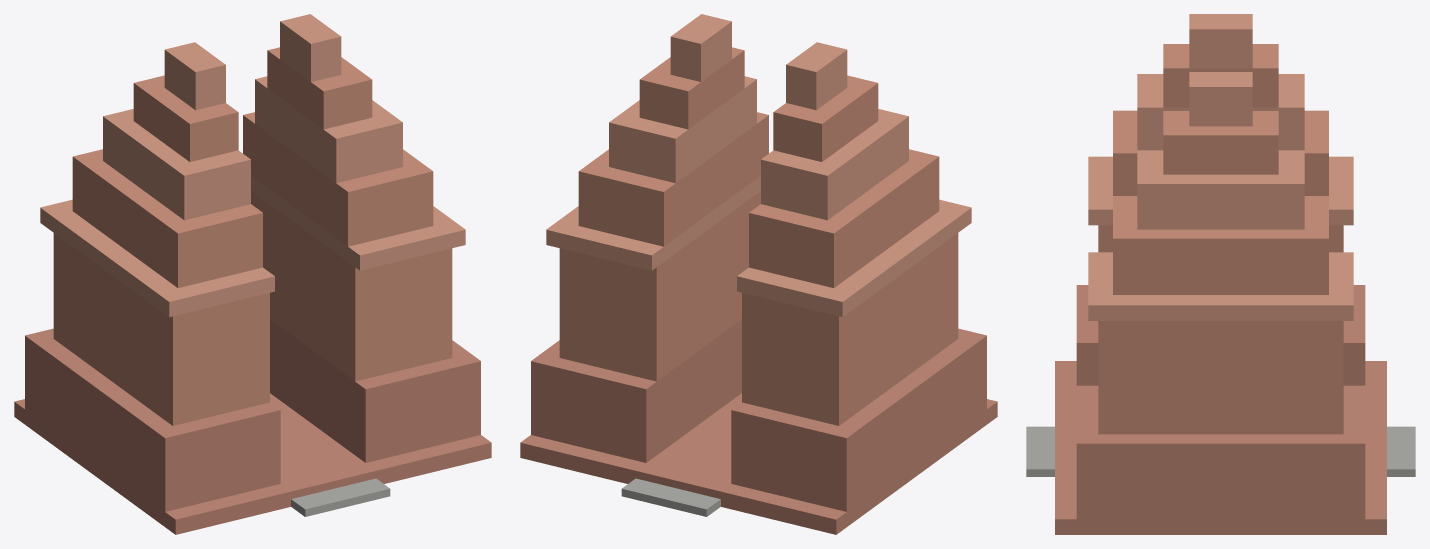
The model's file is gapura_bentar.glb.
3 views of the same model, side by side, from view 1: azimuth 30°, elevation 25°; view 2: azimuth 150°, elevation 25°; view 3: azimuth 270°, elevation 25° (orthographic). The views are drawn at different scales.
Visible parts, largest first — view 1: badan_barat, kaki_barat, badan_timur, kaki_timur, batur, atap1_barat, atap1_timur, atap2_barat, atap2_timur, pelipit_barat, atap3_barat, atap3_timur (+4 smaller); view 2: badan_barat, kaki_barat, badan_timur, kaki_timur, batur, atap1_barat, atap1_timur, atap2_barat, atap2_timur, pelipit_barat, atap3_barat, atap3_timur (+4 smaller); view 3: badan_timur, kaki_timur, atap1_timur, batur, atap2_timur, pelipit_timur, atap3_timur, atap2_barat, atap1_barat, kaki_barat, atap3_barat, puncak_timur (+5 smaller).
Boxes of the visible parts, x1,y1,x2,y2 form: badan_barat: [53, 233, 269, 425]; kaki_barat: [25, 328, 280, 511]; badan_timur: [251, 191, 452, 381]; kaki_timur: [270, 319, 480, 462]; batur: [14, 393, 491, 534]; atap1_barat: [72, 149, 262, 287]; atap1_timur: [243, 112, 433, 246]; atap2_barat: [103, 109, 250, 220]; atap2_timur: [255, 76, 402, 183]; pelipit_barat: [40, 199, 274, 317]; atap3_barat: [133, 75, 238, 161]; atap3_timur: [267, 47, 372, 129]; badan_barat: [742, 233, 958, 425]; kaki_barat: [731, 328, 986, 511]; badan_timur: [559, 191, 760, 381]; kaki_timur: [531, 319, 741, 462]; batur: [520, 393, 997, 534]; atap1_barat: [749, 149, 939, 287]; atap1_timur: [578, 112, 768, 246]; atap2_barat: [761, 109, 908, 220]; atap2_timur: [609, 76, 756, 183]; pelipit_barat: [737, 199, 971, 317]; atap3_barat: [773, 75, 878, 161]; atap3_timur: [639, 47, 744, 129]; badan_timur: [1098, 321, 1343, 434]; kaki_timur: [1076, 385, 1365, 519]; atap1_timur: [1113, 196, 1328, 294]; batur: [1055, 361, 1386, 534]; atap2_timur: [1137, 150, 1304, 229]; pelipit_timur: [1088, 252, 1353, 320]; atap3_timur: [1163, 111, 1278, 174]; atap2_barat: [1137, 74, 1304, 150]; atap1_barat: [1113, 110, 1328, 195]; kaki_barat: [1076, 285, 1365, 385]; atap3_barat: [1163, 44, 1278, 107]; puncak_timur: [1189, 72, 1252, 126].
Size of the model in its own units: 0.26 by 0.31 by 0.27.
